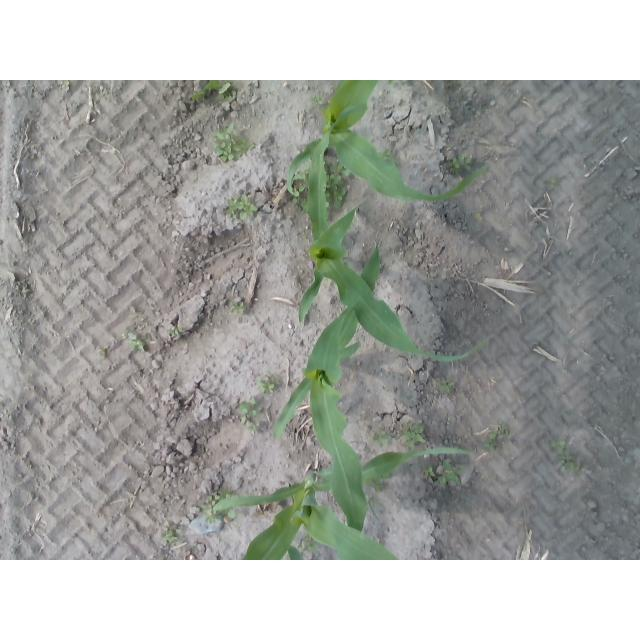Maize: (298, 130, 493, 362), (275, 244, 382, 532), (211, 447, 473, 560), (286, 80, 488, 202)
Weeds: (192, 81, 231, 99), (237, 193, 257, 219), (404, 423, 427, 445), (214, 125, 236, 148), (438, 460, 459, 483), (238, 396, 262, 416), (490, 421, 511, 443), (231, 139, 253, 157), (452, 154, 473, 171), (217, 146, 235, 163), (373, 430, 390, 446), (330, 163, 342, 185), (557, 450, 574, 463), (131, 307, 146, 321), (223, 199, 237, 214), (259, 381, 275, 394), (230, 302, 245, 314), (441, 379, 454, 392), (565, 463, 580, 474), (333, 190, 348, 201), (121, 331, 137, 341), (168, 325, 180, 338), (551, 441, 565, 452), (425, 467, 436, 479), (132, 339, 145, 349), (484, 441, 497, 451), (250, 423, 261, 434), (375, 480, 385, 492), (208, 495, 220, 505), (165, 532, 178, 541), (549, 178, 560, 188), (380, 149, 392, 158), (61, 82, 71, 92), (228, 509, 237, 519), (314, 95, 322, 106), (207, 516, 218, 523), (144, 334, 152, 341), (99, 348, 106, 355), (136, 324, 144, 330), (100, 86, 105, 95), (475, 213, 482, 219), (242, 416, 247, 424), (231, 140, 237, 145)
